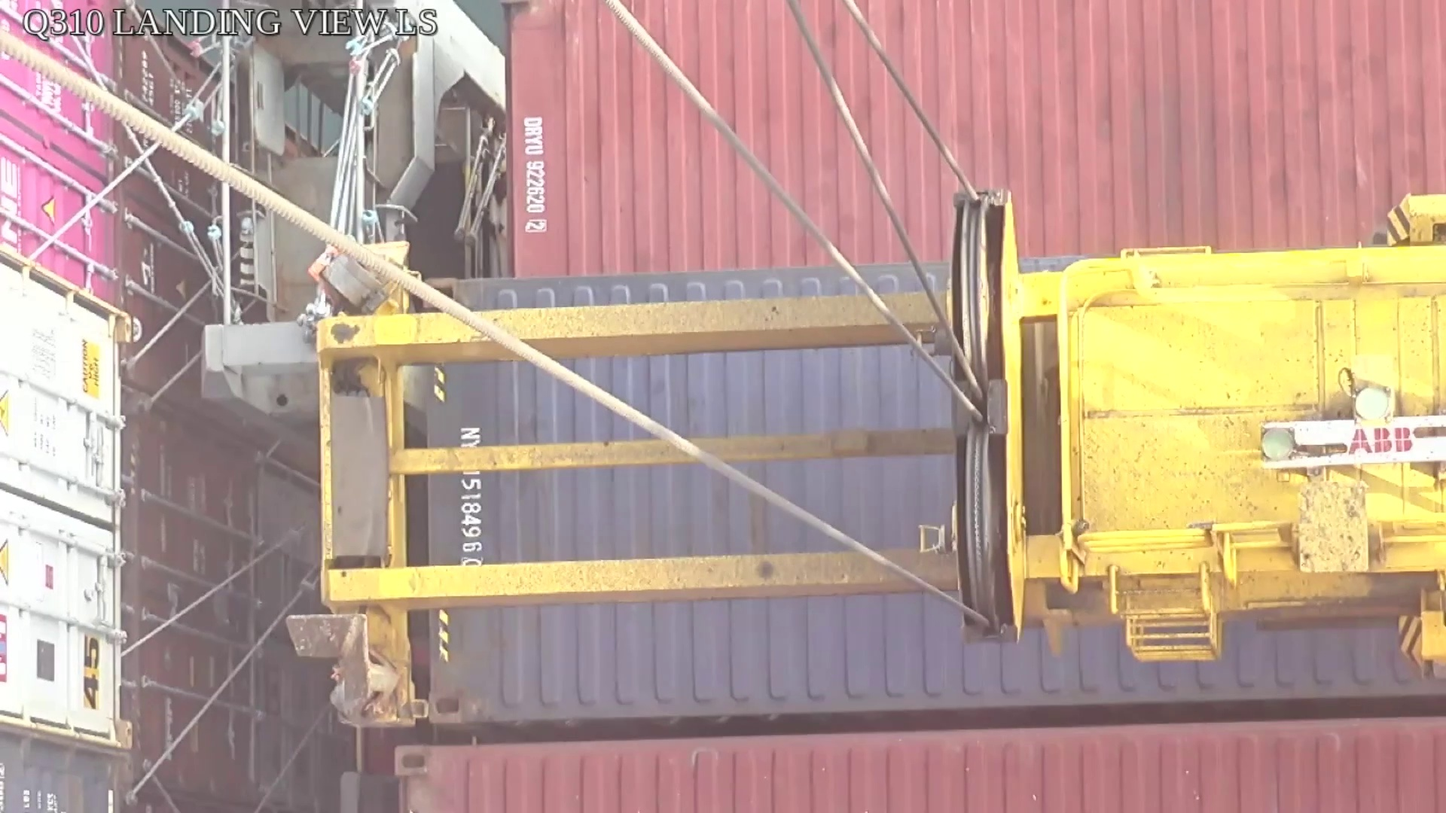aa: (949, 190, 1031, 644)
